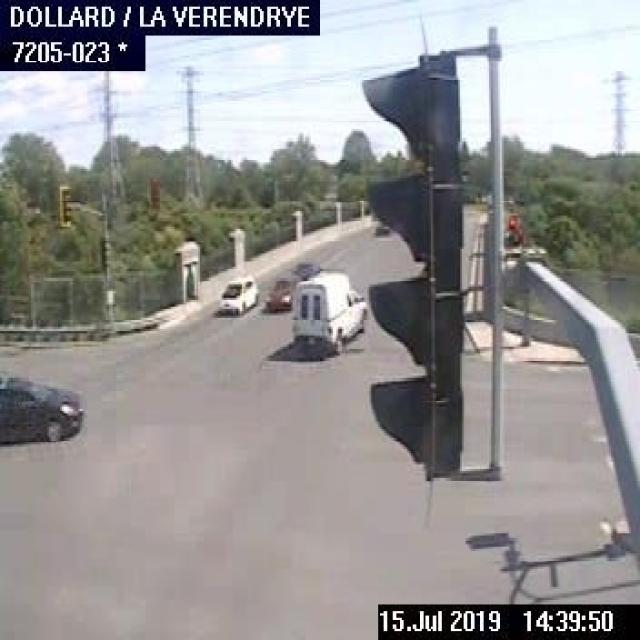vehicle: (289, 271, 367, 351), (0, 371, 82, 440), (213, 274, 260, 314), (262, 273, 292, 311), (292, 258, 320, 278), (373, 218, 392, 239)
